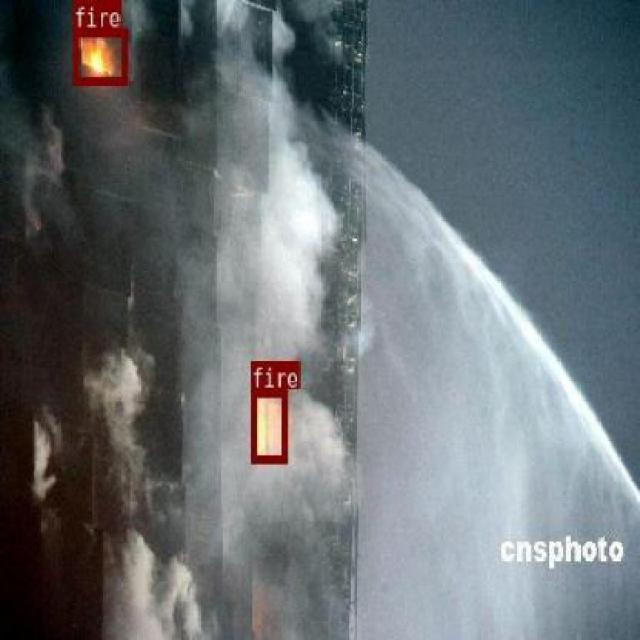Fire: (72, 27, 126, 84), (249, 388, 286, 462)
